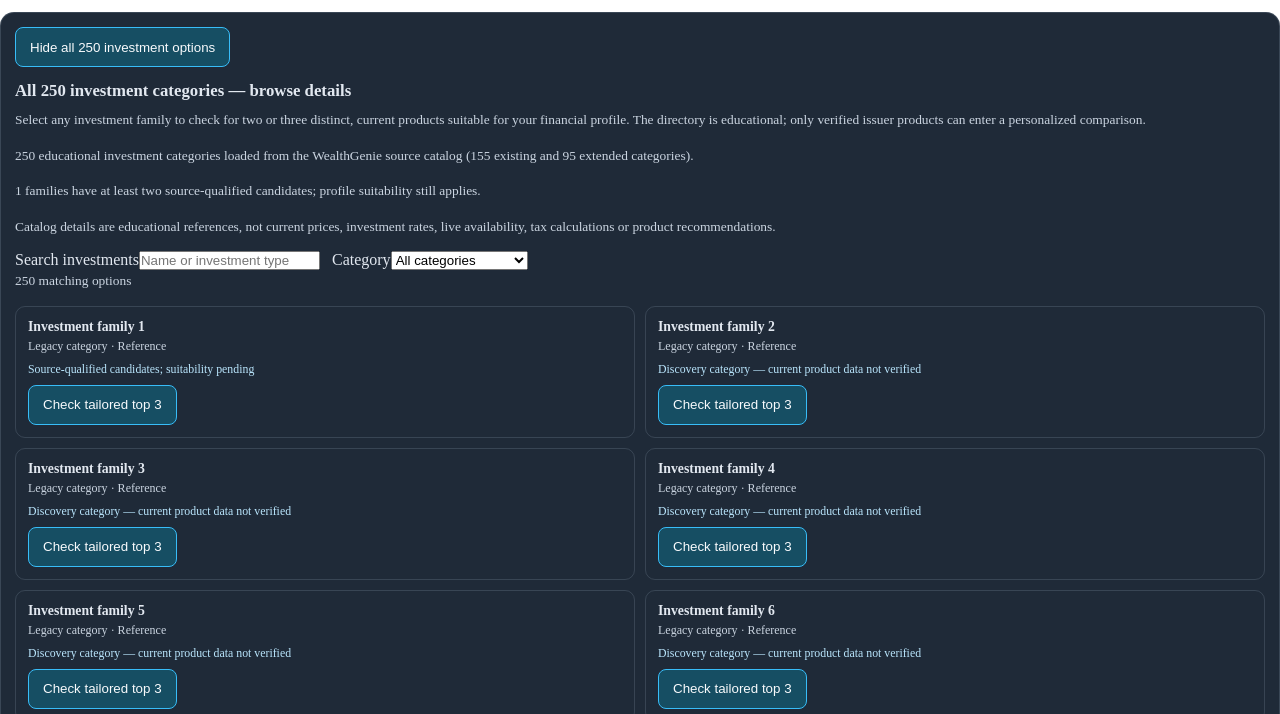
it: all 250 investment categories are browseable without product approval › shows 155 legacy + 95 extended entries, searchable, with all categories visible
expect the text "250 educational investment categories loaded" is shown: met, box 15,148 -> 694,162
expect the text "250 matching options" is shown: met, box 15,273 -> 132,288
Type "Investment family 250" into the search field named "Search all 250 investment options". click: (230, 260)
box: 139,251 -> 320,270
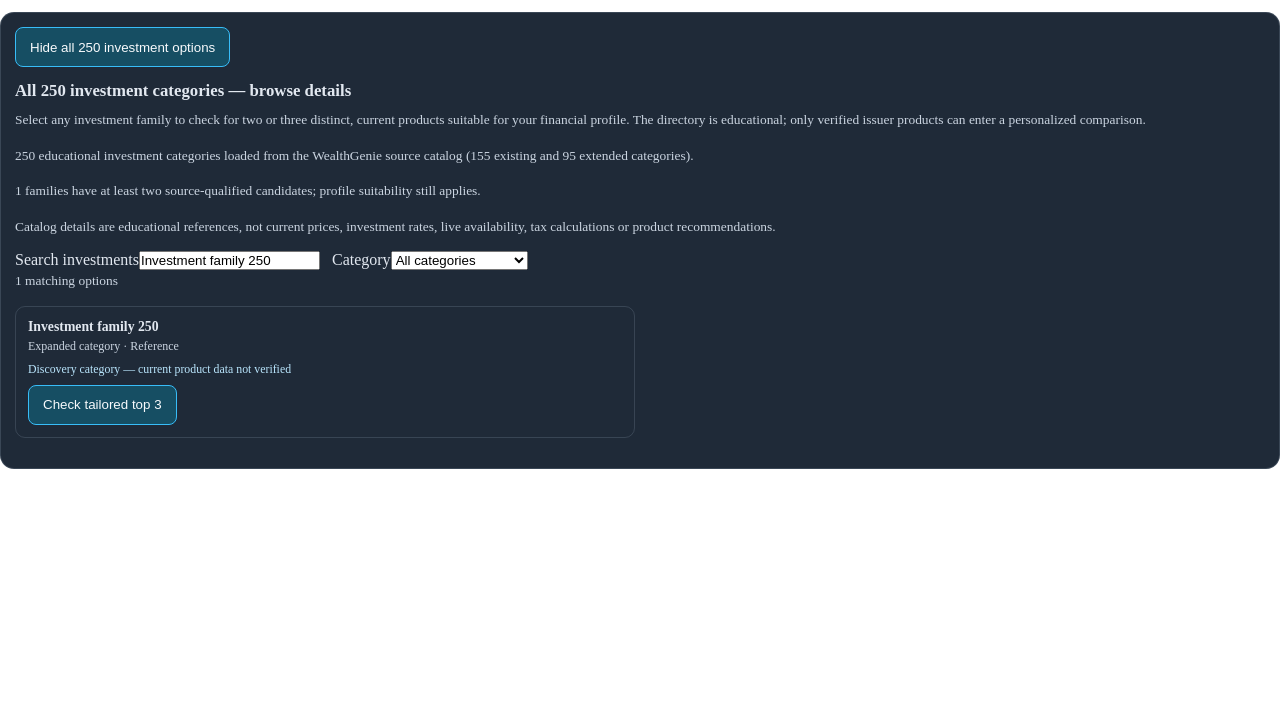
expect the text "1 matching options" is shown: met, box 15,273 -> 118,288
Click the button with aria-label "Check tailored top 3 for Investment family 250". click: click(102, 404)
box: 28,384 -> 176,424
(page scrolled)
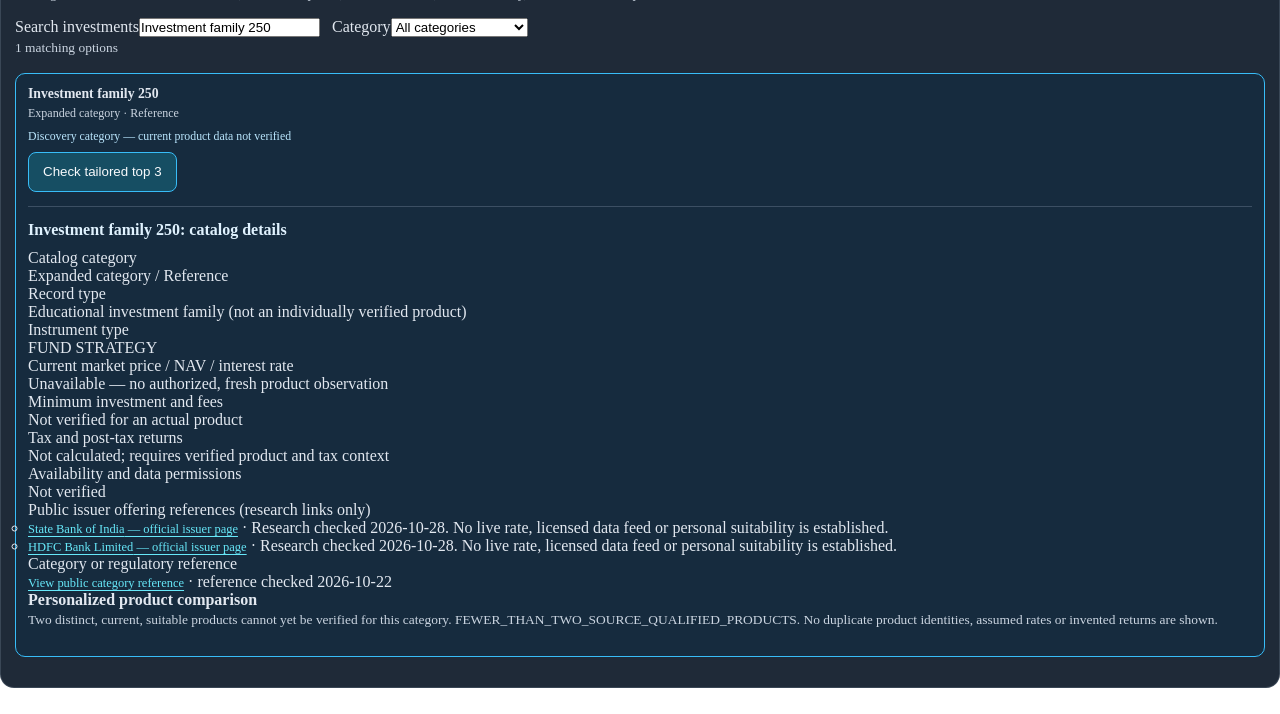
expect the text "Current market price / NAV / interest rate" is shown: met, box 28,356 -> 294,374
expect the text "Unavailable — no authorized, fresh product observation" is shown: met, box 28,374 -> 388,392
expect the number of list items "No live rate, licensed data feed or personal suitability is established" is 2: met, box 28,518 -> 888,536; 28,536 -> 897,554
